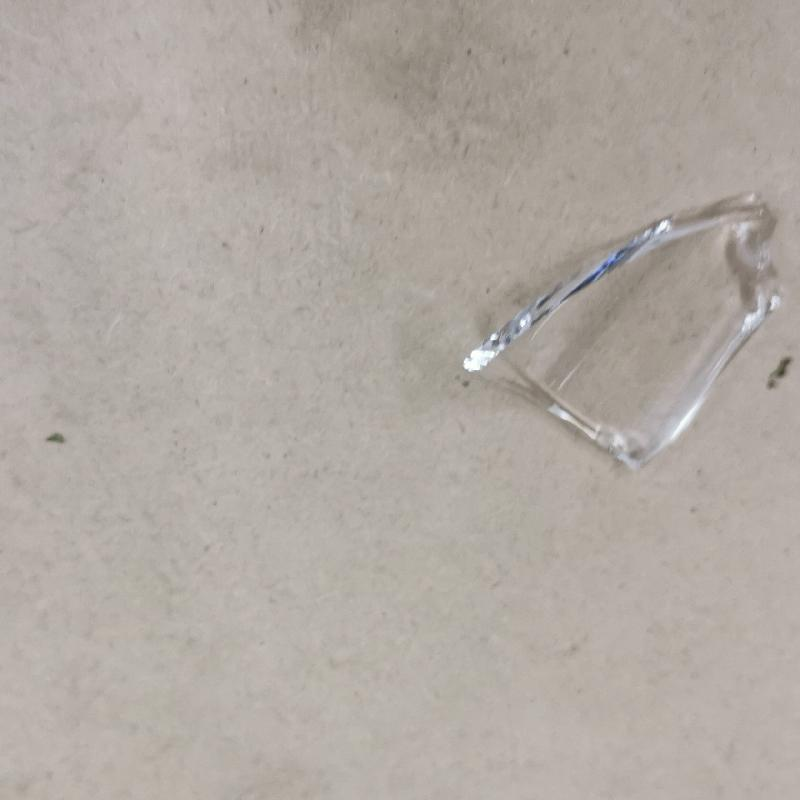glass: (458, 192, 785, 472)
